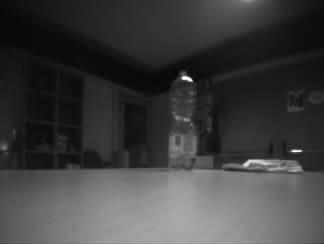Bottle: (167, 72, 196, 170)
